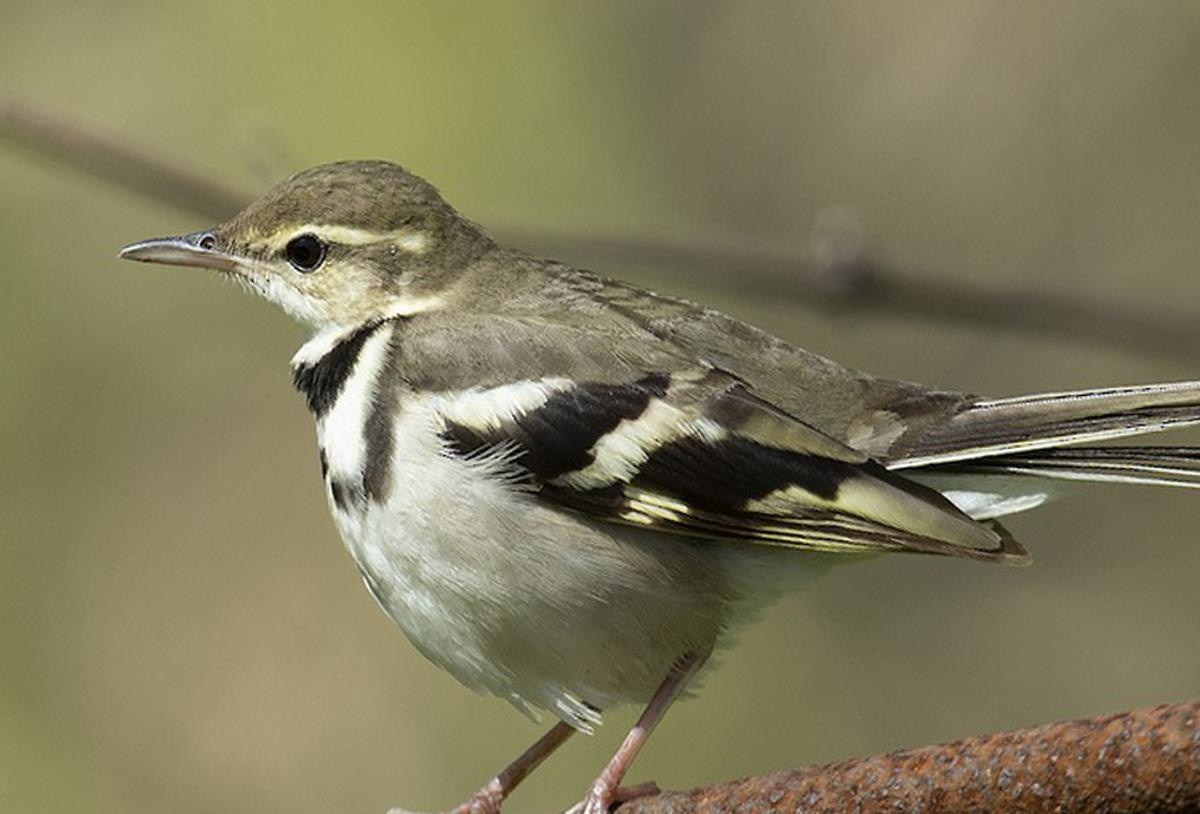wagtail: (143, 84, 1041, 739)
